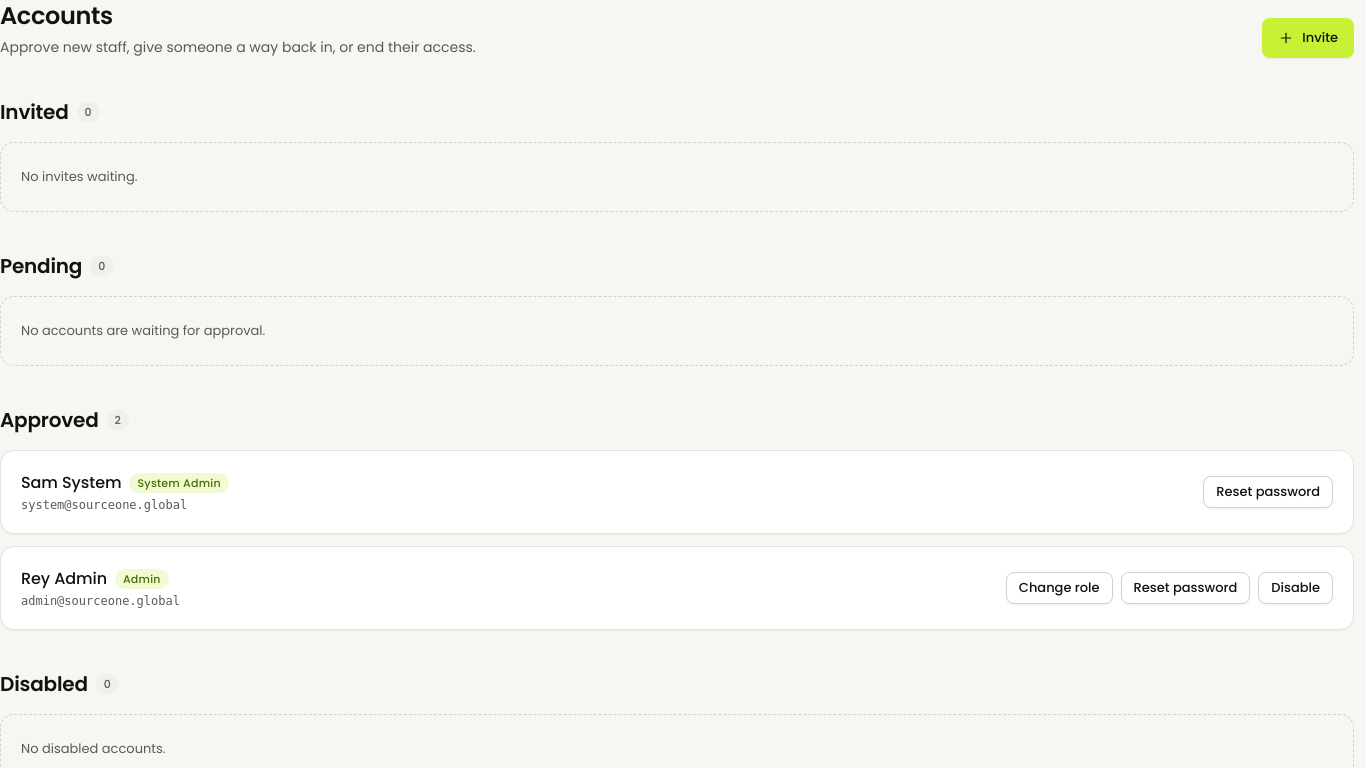
Test: AccountsPage › shows why a role change failed, in the sheet
Click the button "Change role". click: [1059, 588]
box: [1006,572,1112,604]
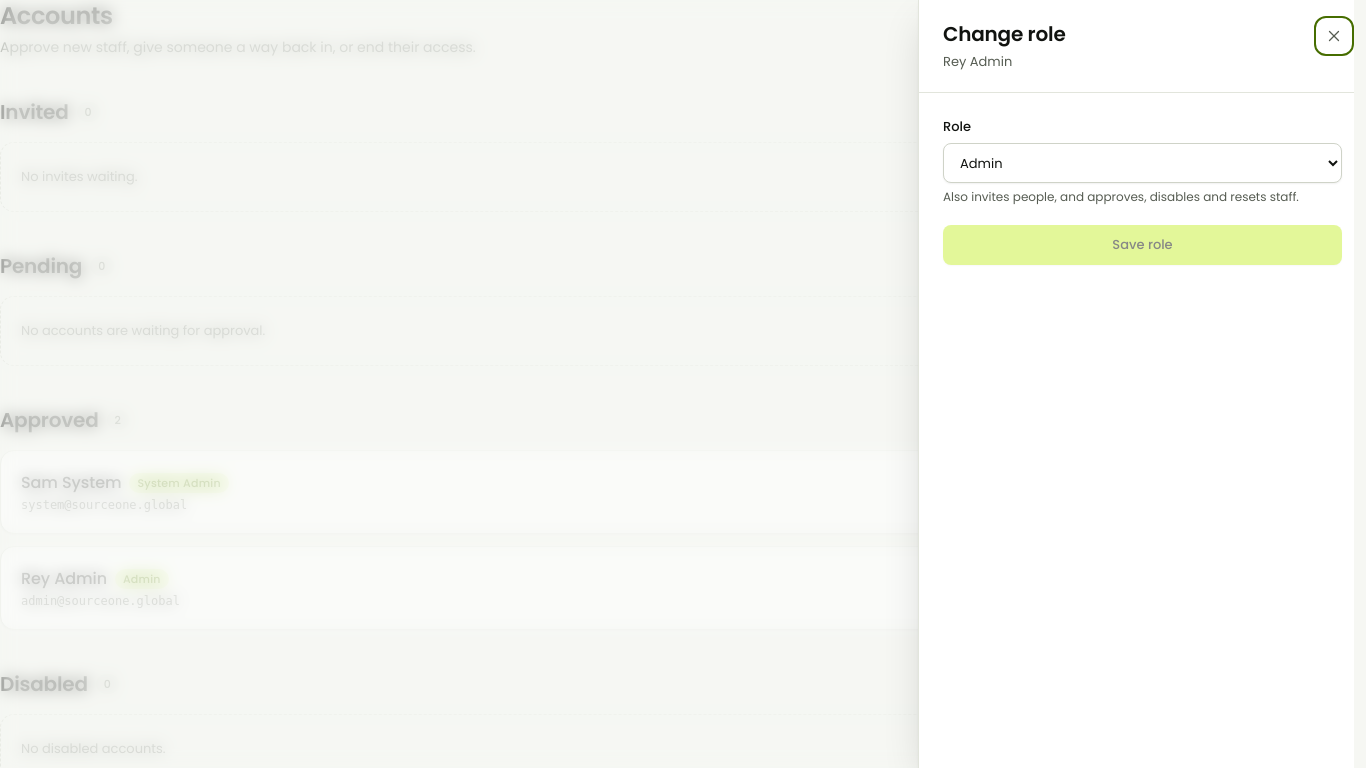
Select "Staff" in the dropdown labelled "Role". click: [1142, 163]
box: [943,143,1342,183]
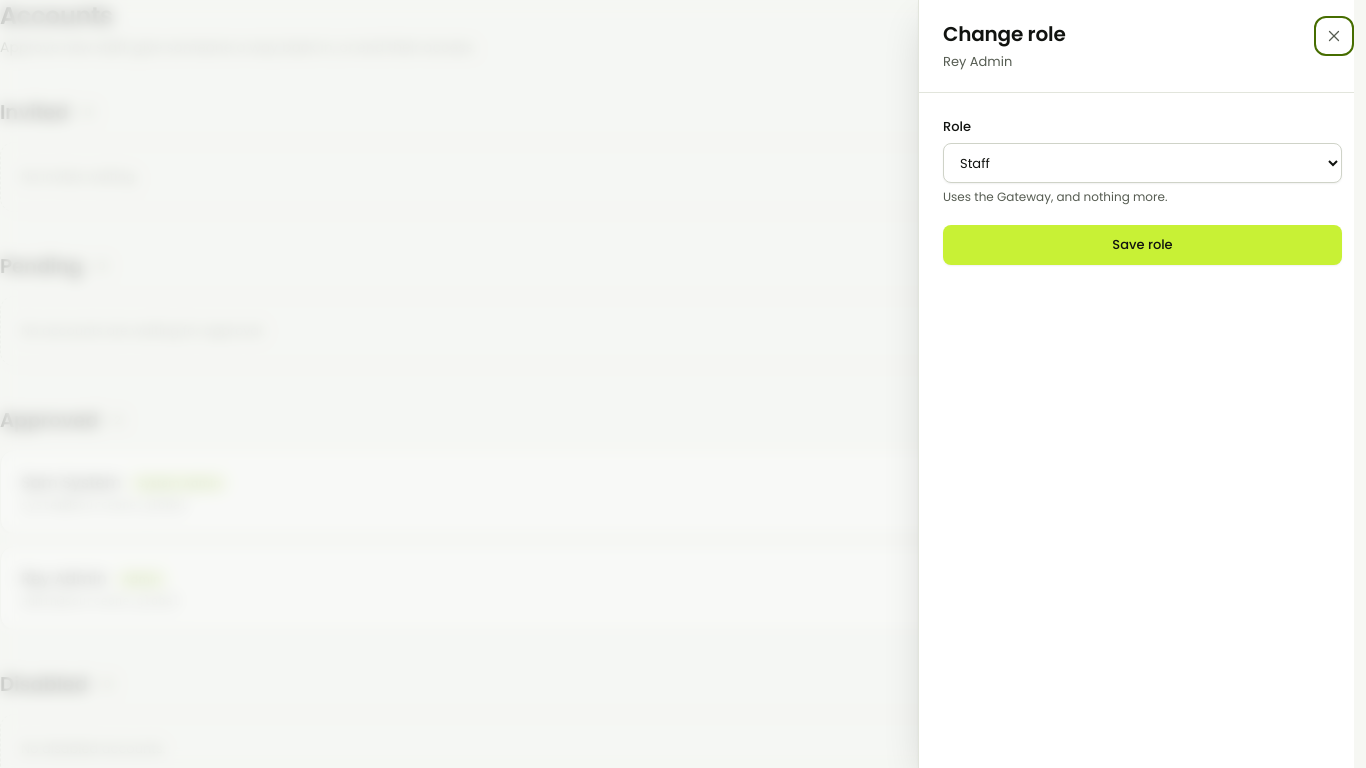
Click the button "Save role". click: [1142, 245]
box: [943,225,1342,265]
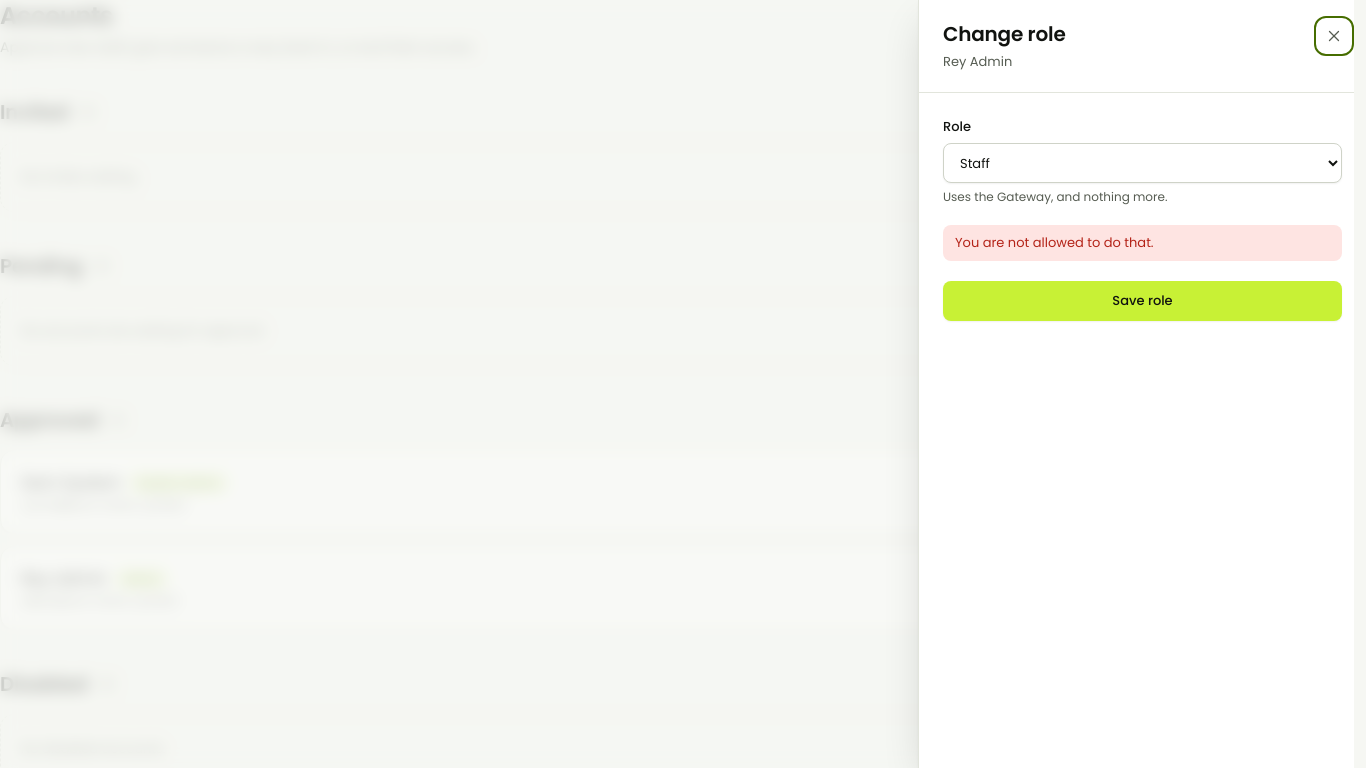
Result: the message reads "You are not allowed to do that." at [955,233,1154,252]
